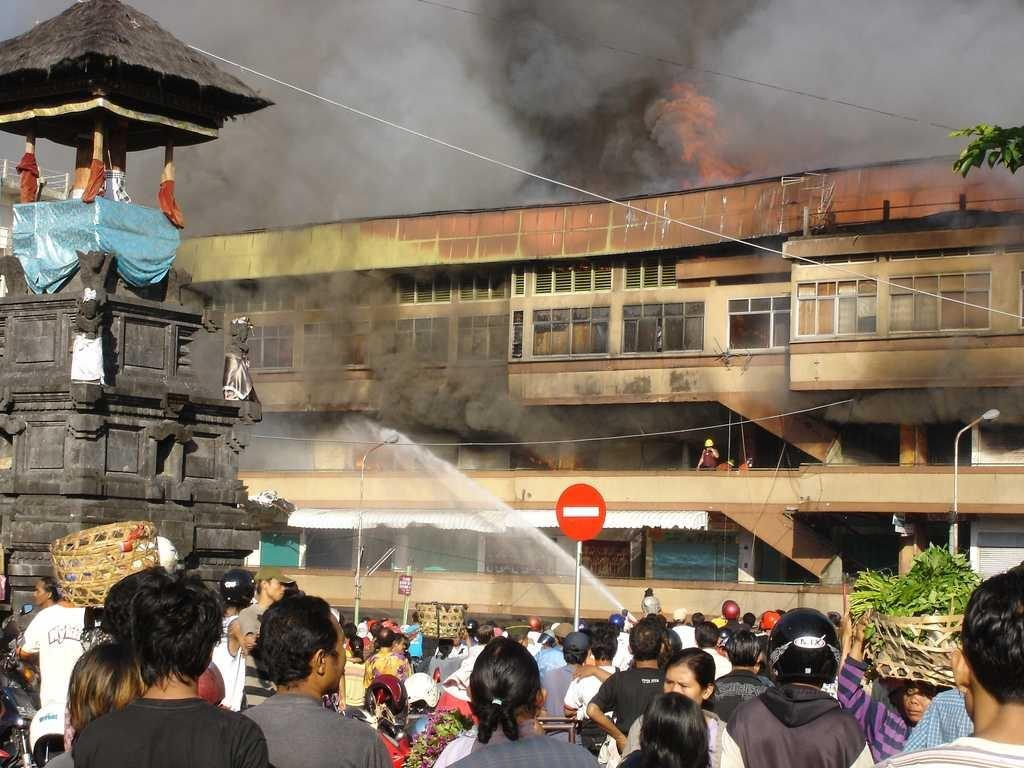fire: (680, 126, 750, 192)
smoke: (286, 20, 666, 176), (768, 4, 968, 130), (368, 358, 530, 434)
